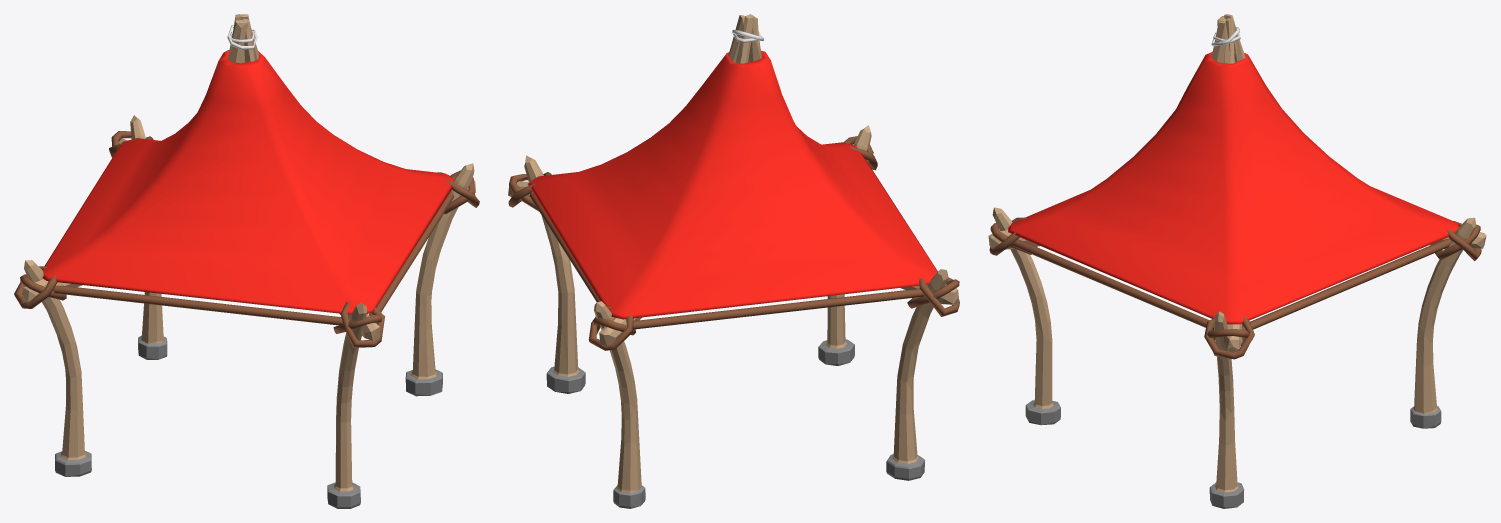
The model's file is Tenda.fbx.
3 renders of one model, left to right at view 1: azimuth 30°, elevation 25°; view 2: azimuth 150°, elevation 25°; view 3: azimuth 270°, elevation 25°, orthographic. The views are drawn at different scales.
Parts seen in each view (by area): view 1: Cube.004, Cube.009, Cube.007, Cube.010, Cube.008, Torus.002, Cube.006, Cube.003; view 2: Cube.004, Cube.007, Cube.009, Cube.006, Cube.010, Torus.002, Cube.003, Cube.008; view 3: Cube.004, Cube.010, Cube.006, Cube.008, Cube.009, Torus.002, Cube.003.
Part boxes in pixels (bbox=[...]): Cube.004: bbox=[42, 49, 454, 314]; Cube.009: bbox=[405, 163, 474, 396]; Cube.007: bbox=[24, 260, 91, 476]; Cube.010: bbox=[53, 191, 454, 325]; Cube.008: bbox=[327, 302, 366, 508]; Torus.002: bbox=[14, 131, 479, 347]; Cube.006: bbox=[130, 115, 167, 359]; Cube.003: bbox=[22, 14, 475, 340]; Cube.004: bbox=[527, 50, 937, 319]; Cube.007: bbox=[886, 269, 948, 480]; Cube.009: bbox=[524, 155, 585, 393]; Cube.006: bbox=[594, 301, 645, 508]; Cube.010: bbox=[529, 193, 924, 329]; Torus.002: bbox=[508, 136, 959, 350]; Cube.003: bbox=[508, 14, 958, 346]; Cube.008: bbox=[818, 125, 871, 365]; Cube.004: bbox=[1008, 52, 1460, 324]; Cube.010: bbox=[1012, 238, 1450, 330]; Cube.006: bbox=[1410, 217, 1476, 428]; Cube.008: bbox=[992, 207, 1060, 425]; Cube.009: bbox=[1209, 311, 1244, 508]; Torus.002: bbox=[989, 217, 1481, 359]; Cube.003: bbox=[988, 14, 1486, 352].
Bounding box in the file's own units: 3080 × 2727 × 3071.
